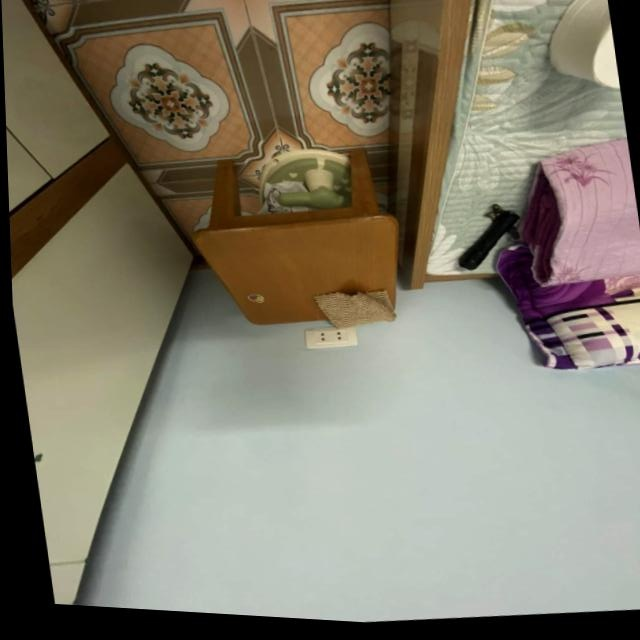outlet: (304, 322, 359, 351)
